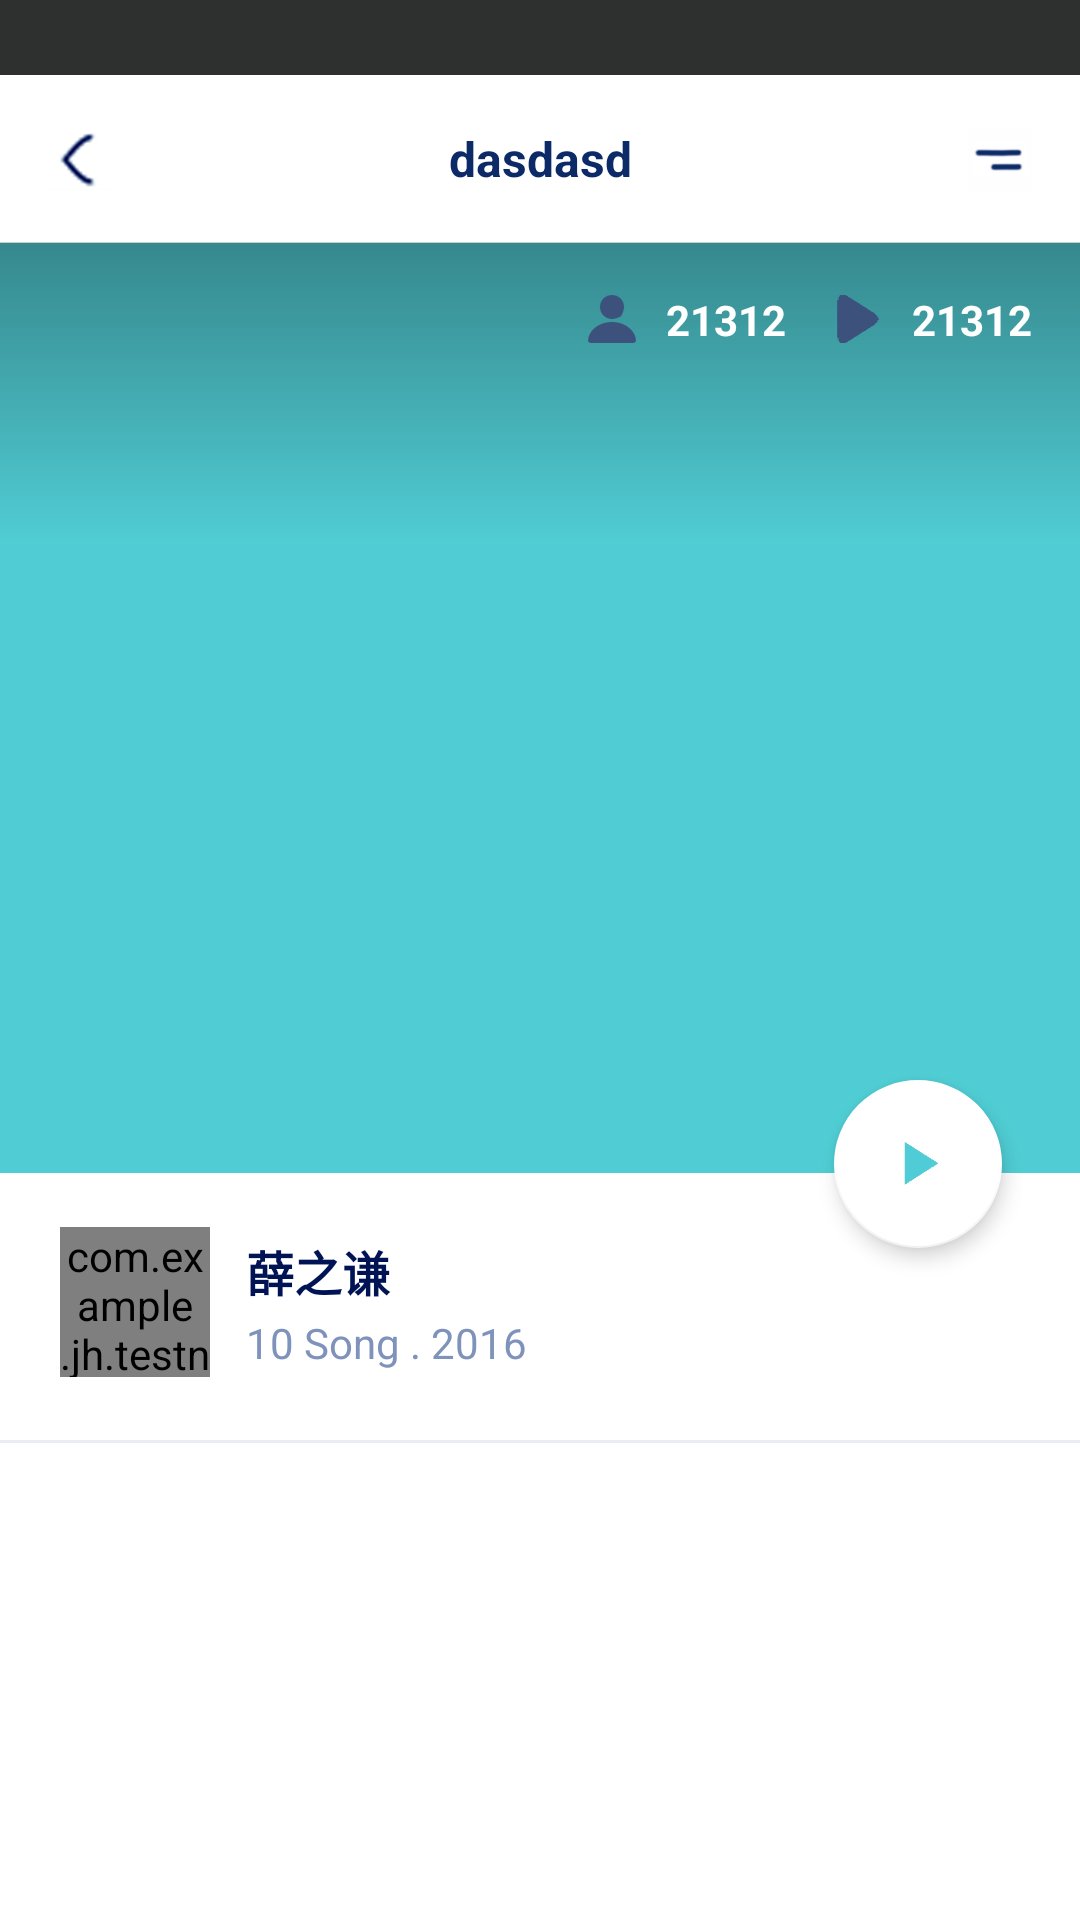

Where to tap for icons on this 1080 × 1920 app screen, as (x=x, y=y):
back: (x=77, y=160)
menu: (x=998, y=160)
play arrow: (x=918, y=1164)
